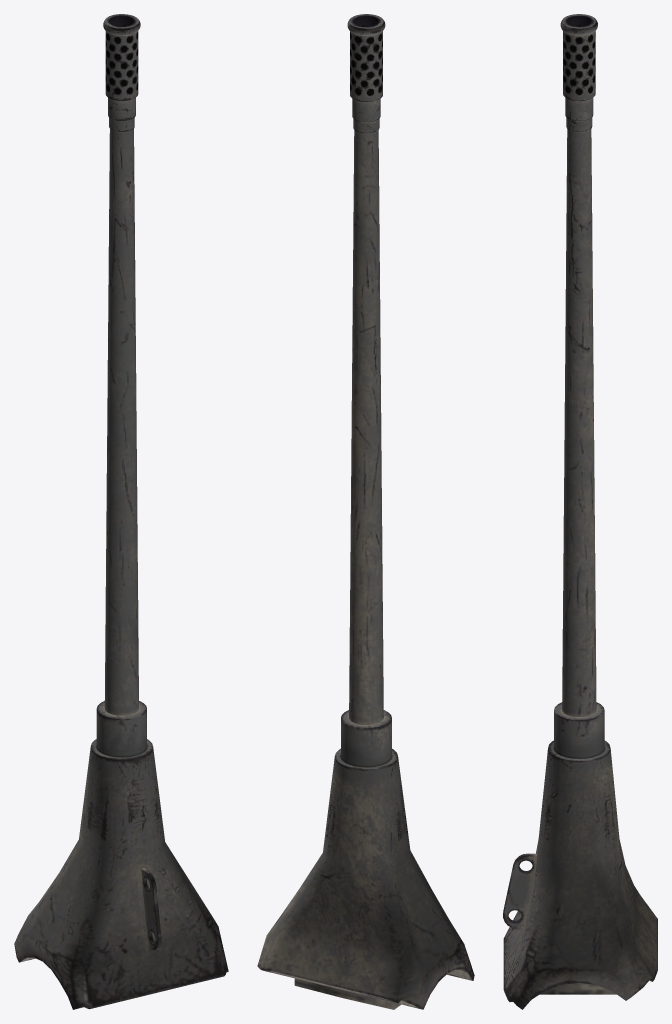
Rendered from Gun_01.glb.
3 renders of one model, left to right at view 1: azimuth 30°, elevation 25°; view 2: azimuth 150°, elevation 25°; view 3: azimuth 270°, elevation 25°, orthographic.
Parts seen in each view (by area): view 1: set_0_group_0; view 2: set_0_group_0; view 3: set_0_group_0.
Boxes of the visible parts, <box> form: set_0_group_0: <box>14,14,228,1009</box>; set_0_group_0: <box>257,14,474,1009</box>; set_0_group_0: <box>503,14,657,1009</box>.
Size of the model in its own units: 1.18 by 6.7 by 0.9887.
Materials: 1 (1 with a texture image).
